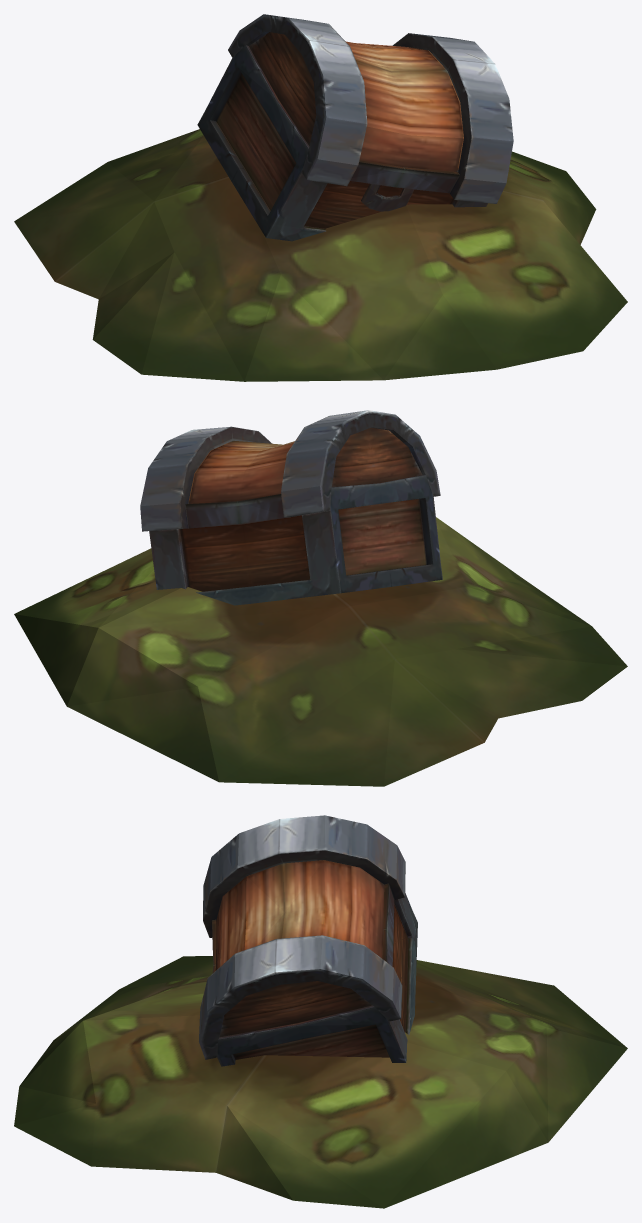
File: Swamp_baoxiang01.FBX
The picture shows the model from 3 angles, top to bottom: view 1: azimuth 30°, elevation 25°; view 2: azimuth 150°, elevation 25°; view 3: azimuth 270°, elevation 25°; orthographic projection. The views are drawn at different scales.
Visible parts, largest first — view 1: baoxiang01; view 2: baoxiang01; view 3: baoxiang01.
Boxes of the visible parts, box(x1,y1,x2,y2) form: baoxiang01: box(14, 14, 627, 381); baoxiang01: box(14, 410, 627, 786); baoxiang01: box(14, 815, 627, 1208).
Bounding box in the file's own units: 79.88 × 36.21 × 81.99.
